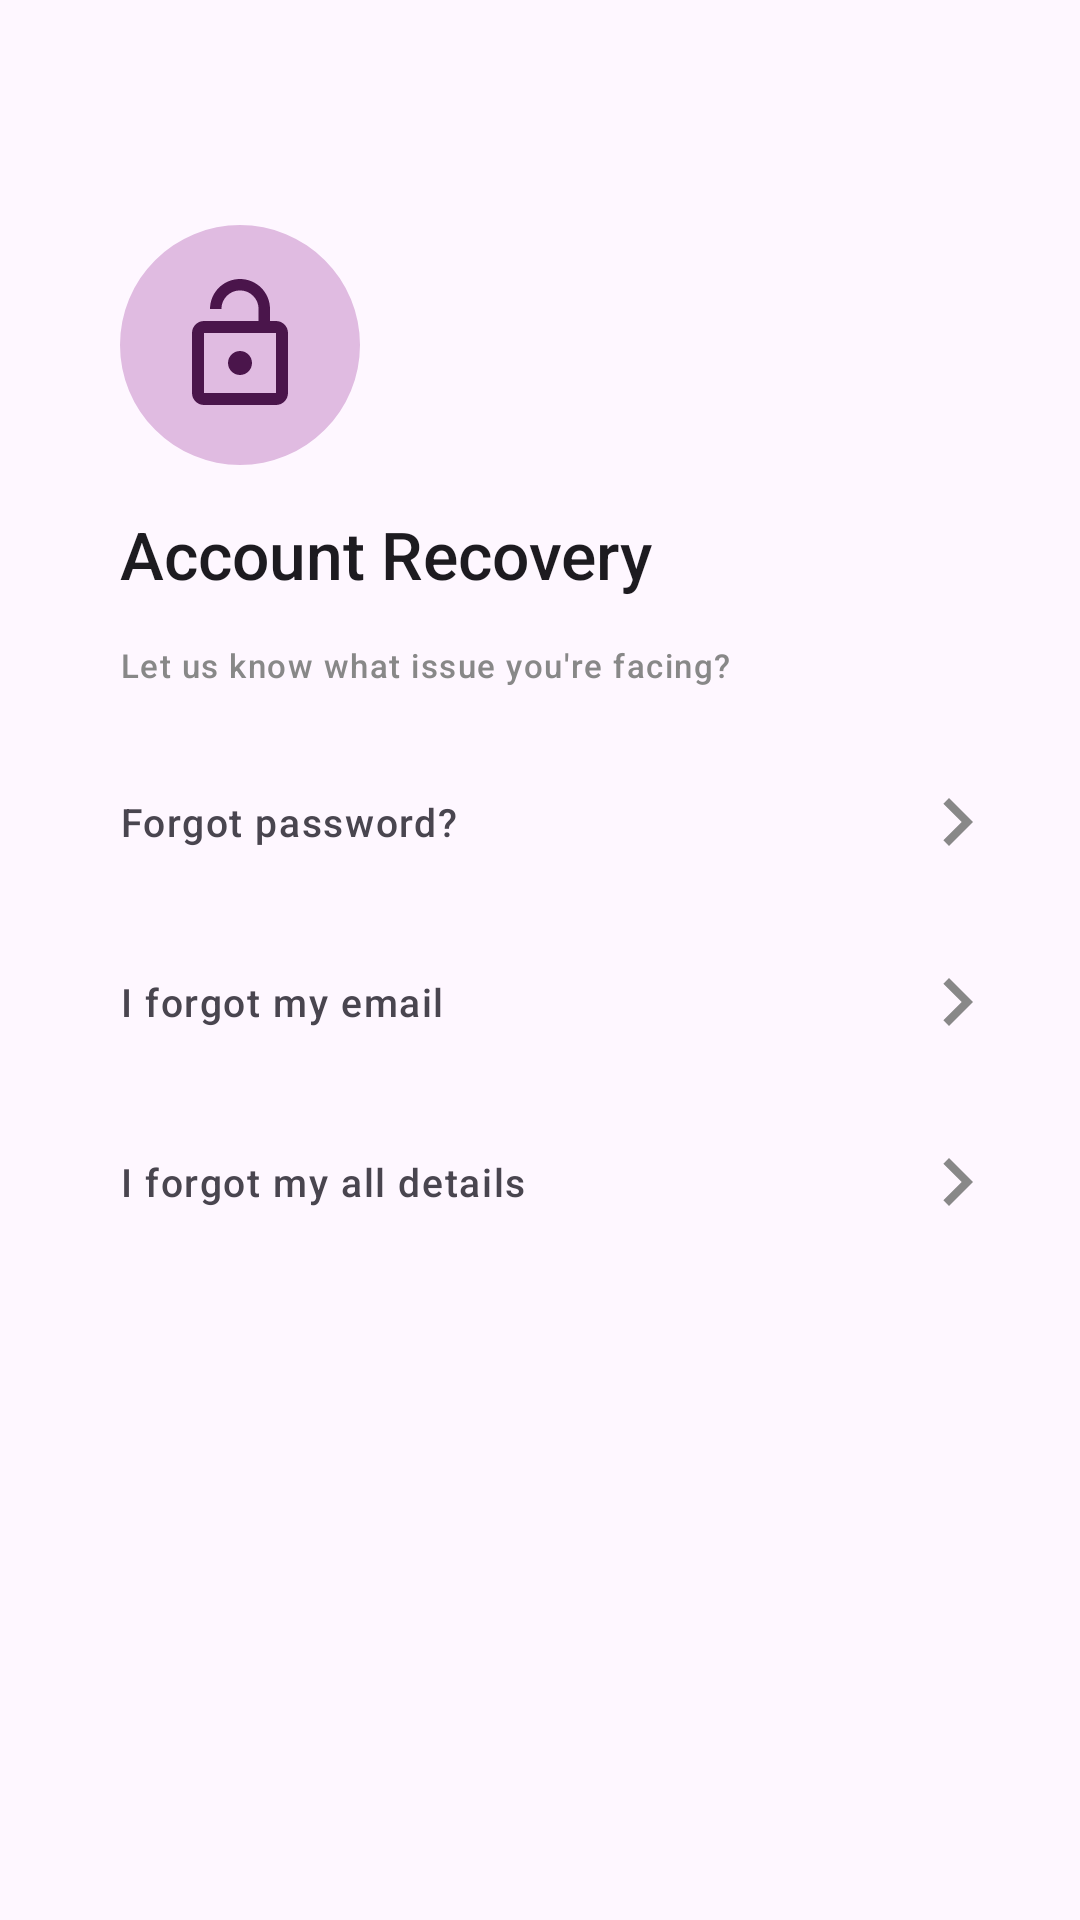

Named icons in this screenshot (1080px x 1920px) and their centers, point (x, y):
lock open: point (240, 345)
